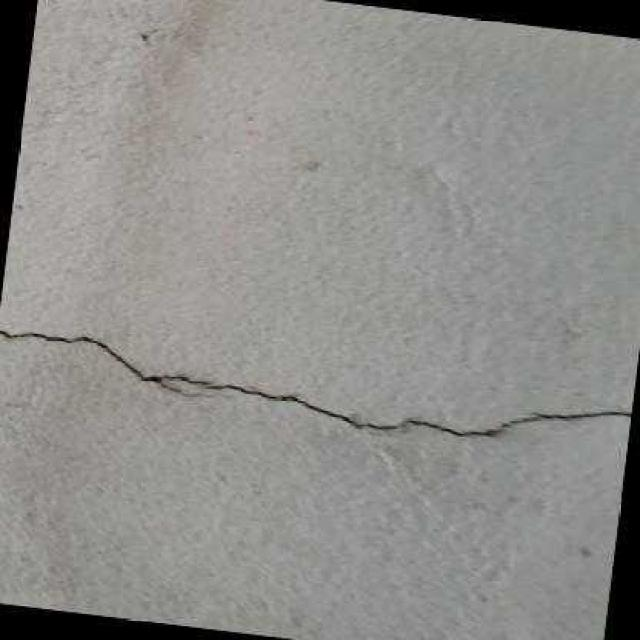D00: (0, 327, 631, 435)
